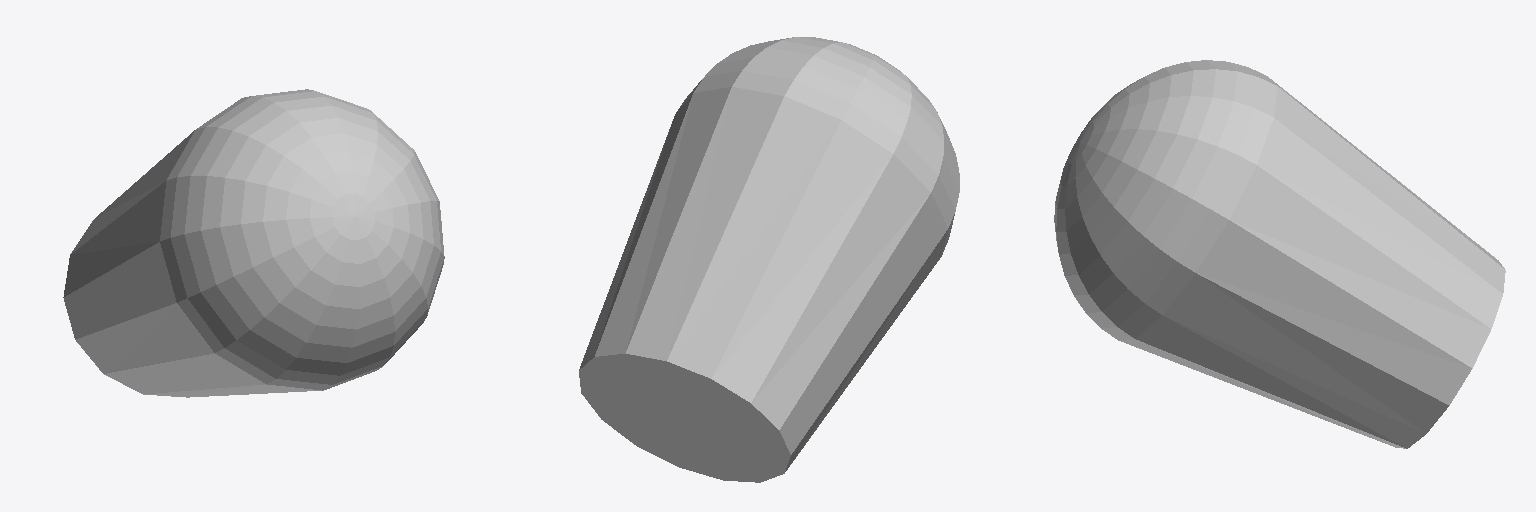
Rendered from e_teil2.obj.
3 renders of one model, left to right at view 1: azimuth 30°, elevation 25°; view 2: azimuth 150°, elevation 25°; view 3: azimuth 270°, elevation 25°, orthographic.
Bounding box in the file's own units: 0.635 × 0.8427 × 0.9571.